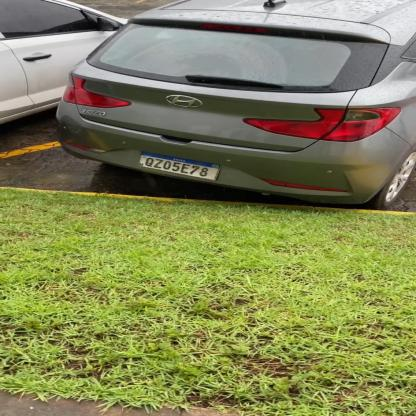Plate: (134, 147, 227, 184)
